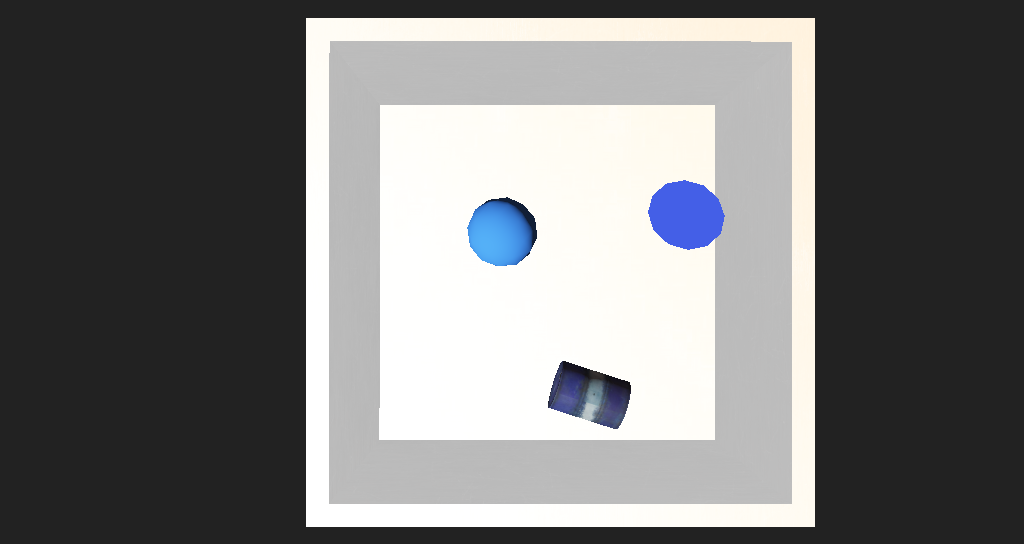cone: (509, 322, 583, 375)
cylinder: (573, 200, 667, 277)
sphere: (431, 222, 499, 265)
